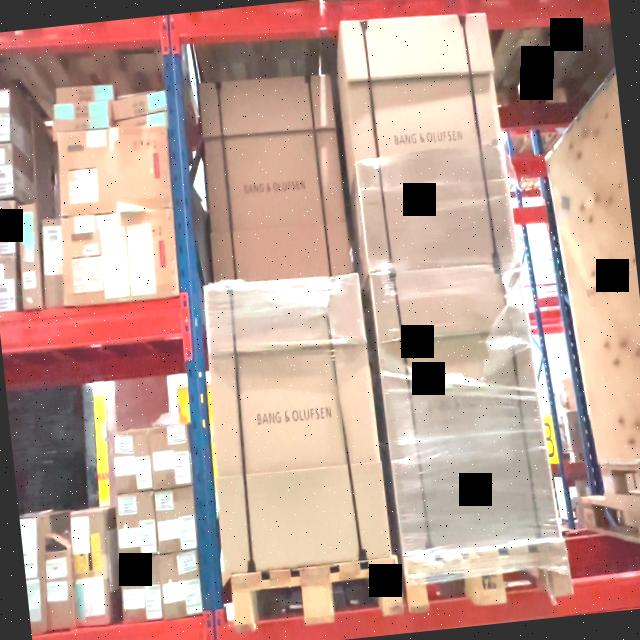box: (204, 273, 390, 575), (373, 267, 560, 553), (340, 13, 519, 274), (200, 75, 350, 281)
